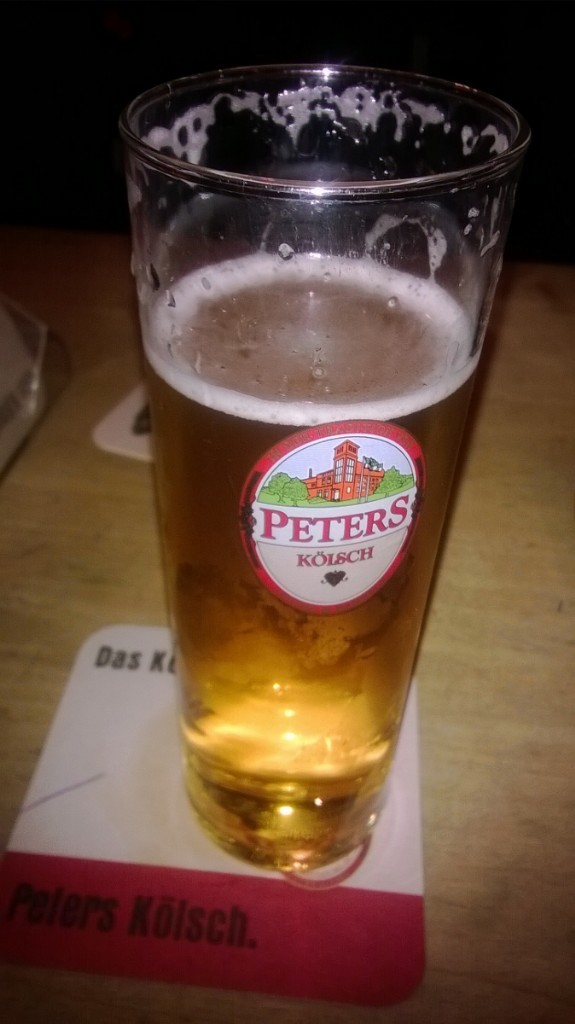Beer: (120, 58, 546, 890)
